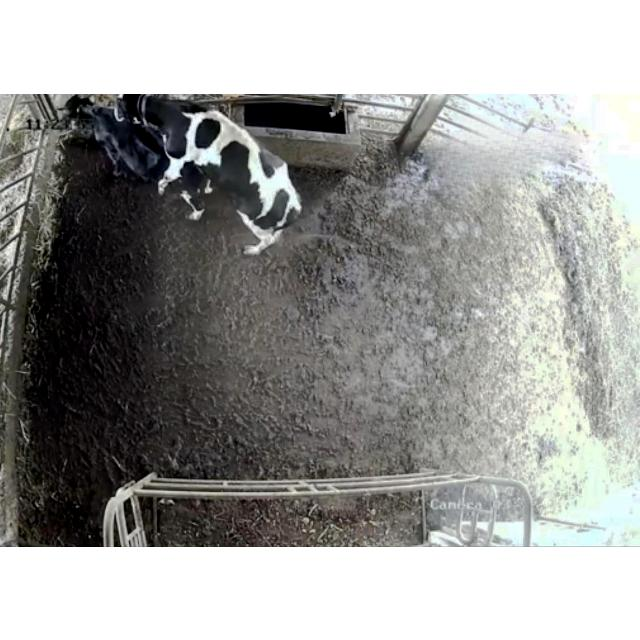ride: (113, 94, 310, 262)
